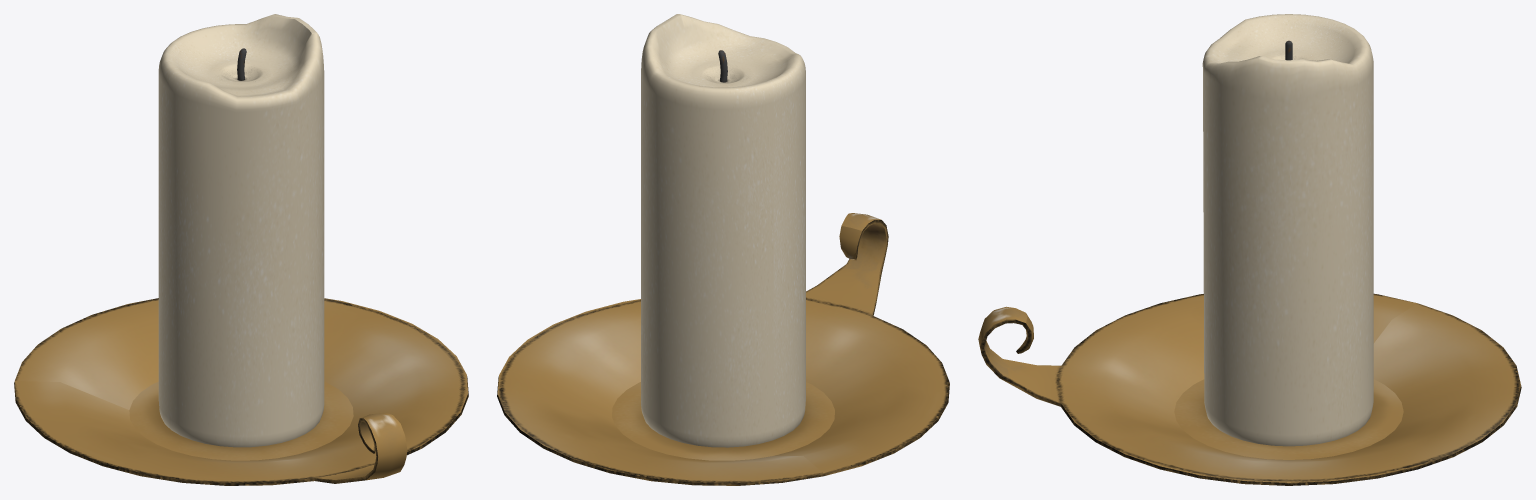
The model's file is kaars.glb.
The picture shows the model from 3 angles, left to right: view 1: azimuth 30°, elevation 25°; view 2: azimuth 150°, elevation 25°; view 3: azimuth 270°, elevation 25°; orthographic projection. The views are drawn at different scales.
Parts seen in each view (by area): view 1: kaars, Cylinder; view 2: kaars, Cylinder; view 3: kaars, Cylinder.
Part boxes in pixels (box(x1,y1,x2,y2)): kaars: box(158, 14, 324, 447); Cylinder: box(14, 298, 468, 485); kaars: box(641, 14, 805, 447); Cylinder: box(497, 213, 949, 485); kaars: box(1202, 14, 1373, 446); Cylinder: box(978, 293, 1521, 485).
Size of the model in its own units: 0.5238 by 0.5002 by 0.6116.
2 materials, 2 textured.
